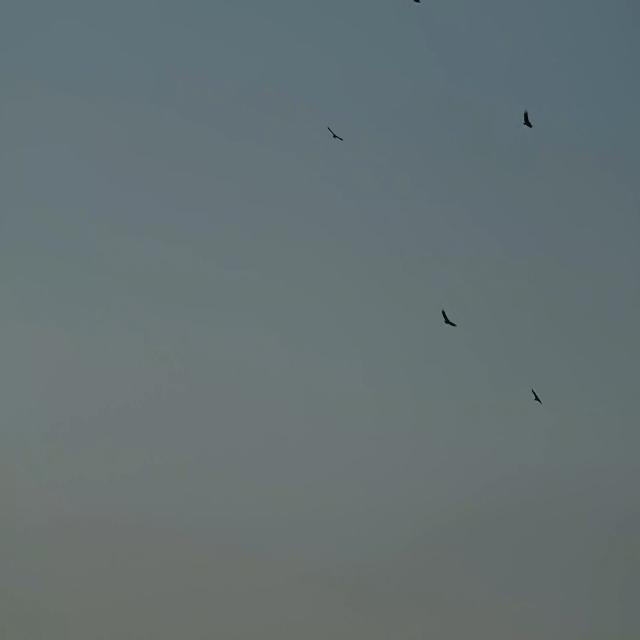bird: (437, 302, 460, 338), (321, 120, 347, 151), (520, 102, 538, 135), (530, 382, 548, 409)
